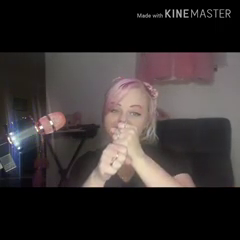G: (96, 115, 145, 181)
